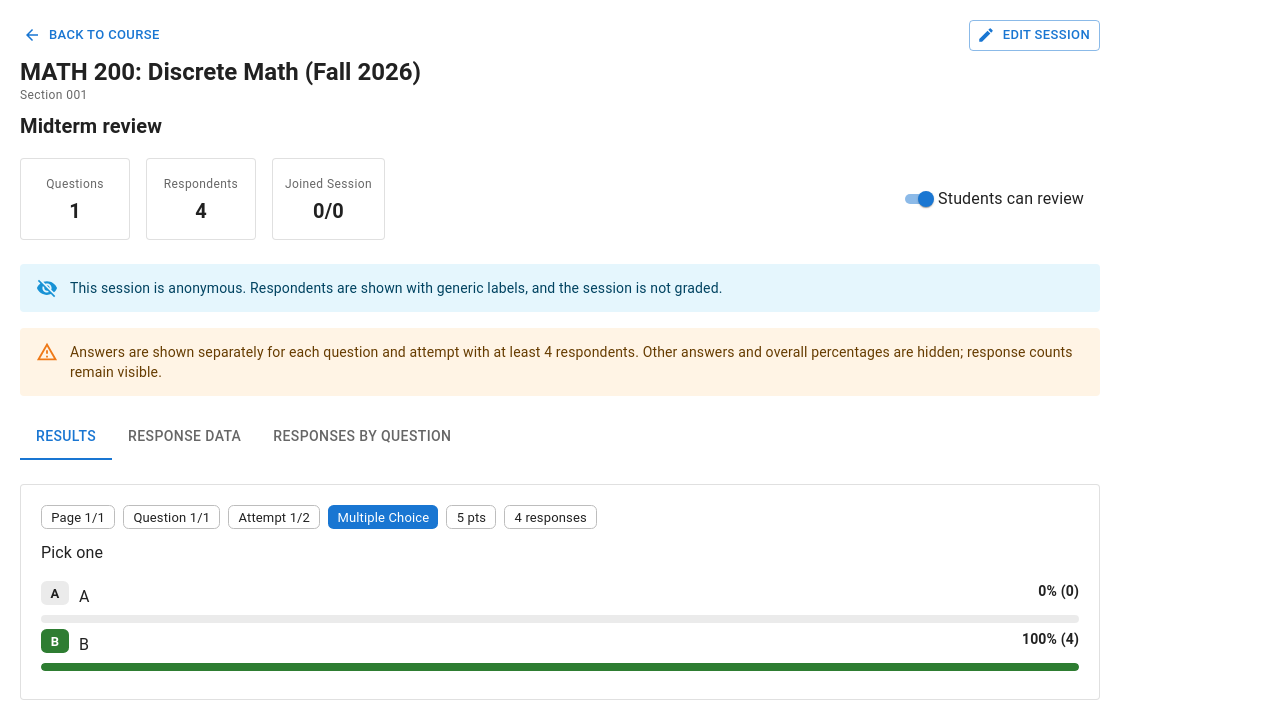
Test: SessionReview › shows true counts and per-attempt withheld markers alongside released anonymous answers
Expected: the text "4 responses" is shown, x1=515 y1=510 x2=587 y2=524
Click the tab "Response Data" at (185, 436), box x1=112 y1=412 x2=257 y2=460
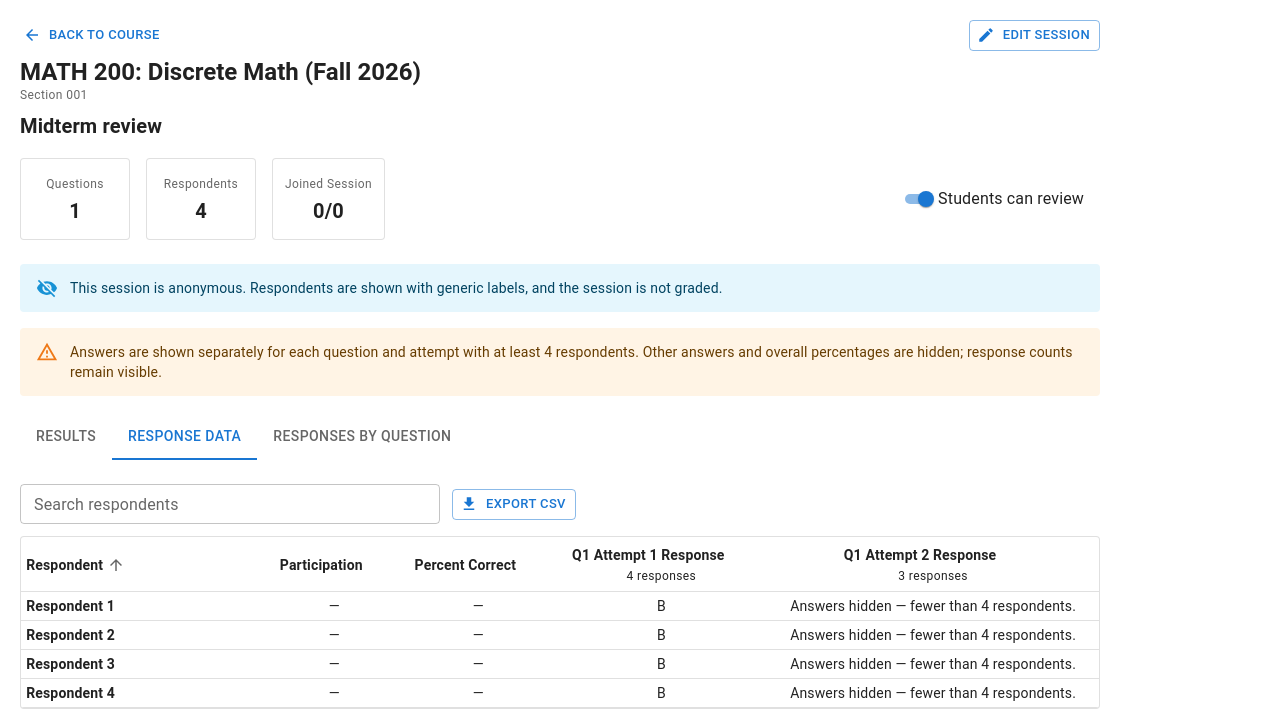
Expected: the number of cells "B" is 4, x1=556 y1=591 x2=767 y2=620; x1=556 y1=620 x2=767 y2=649; x1=556 y1=649 x2=767 y2=678; x1=556 y1=678 x2=767 y2=707
Expected: the text "Answers hidden — fewer than 4 respondents." is shown 4 times, x1=772 y1=596 x2=1094 y2=616; x1=772 y1=624 x2=1094 y2=644; x1=772 y1=654 x2=1094 y2=674; x1=772 y1=682 x2=1094 y2=702
Expected: the text "0%" is gone
